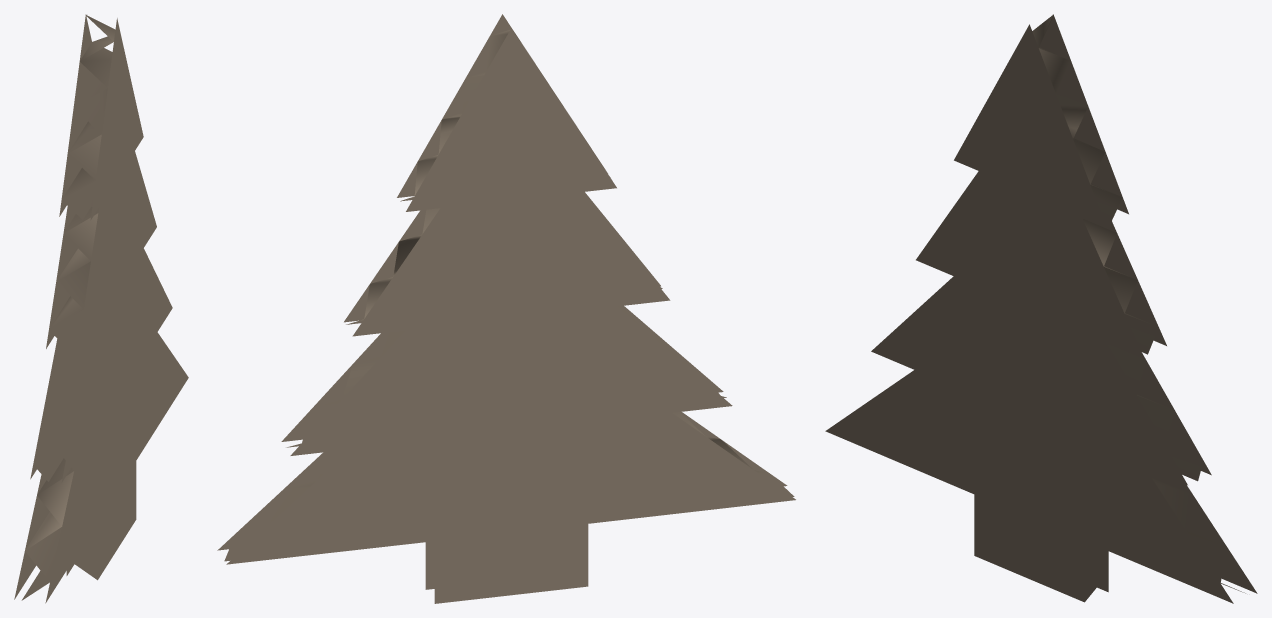
The model's file is tree_cleaned.glb.
The picture shows the model from 3 angles, left to right: view 1: azimuth 30°, elevation 25°; view 2: azimuth 150°, elevation 25°; view 3: azimuth 270°, elevation 25°; orthographic projection. The views are drawn at different scales.
Visible parts, largest first — view 1: Mesh_0; view 2: Mesh_0; view 3: Mesh_0.
Part boxes in pixels (x1,y1,x2,y2): Mesh_0: [14, 14, 188, 603]; Mesh_0: [217, 14, 795, 603]; Mesh_0: [825, 14, 1257, 603].
Bounding box in the file's own units: 2.57 × 3.63 × 2.57.
